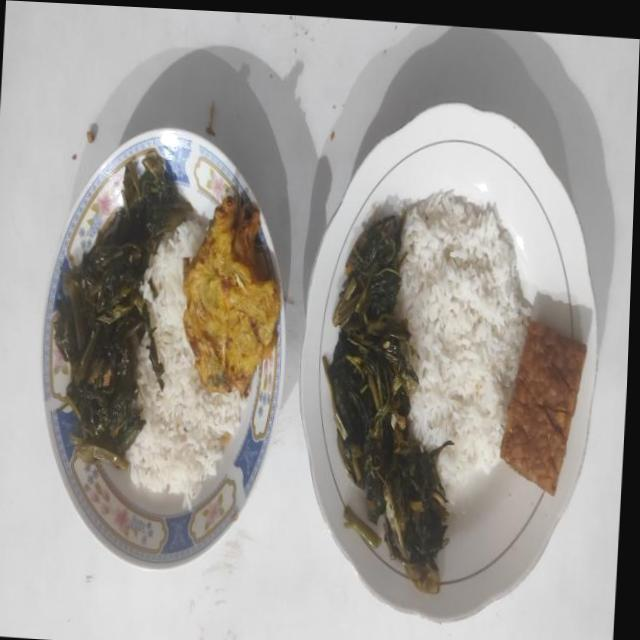nasi_putih: (393, 191, 528, 492), (127, 218, 243, 499)
tempe_goreng: (500, 320, 586, 495)
tumis_kangkung: (322, 215, 453, 593), (52, 149, 192, 467)
